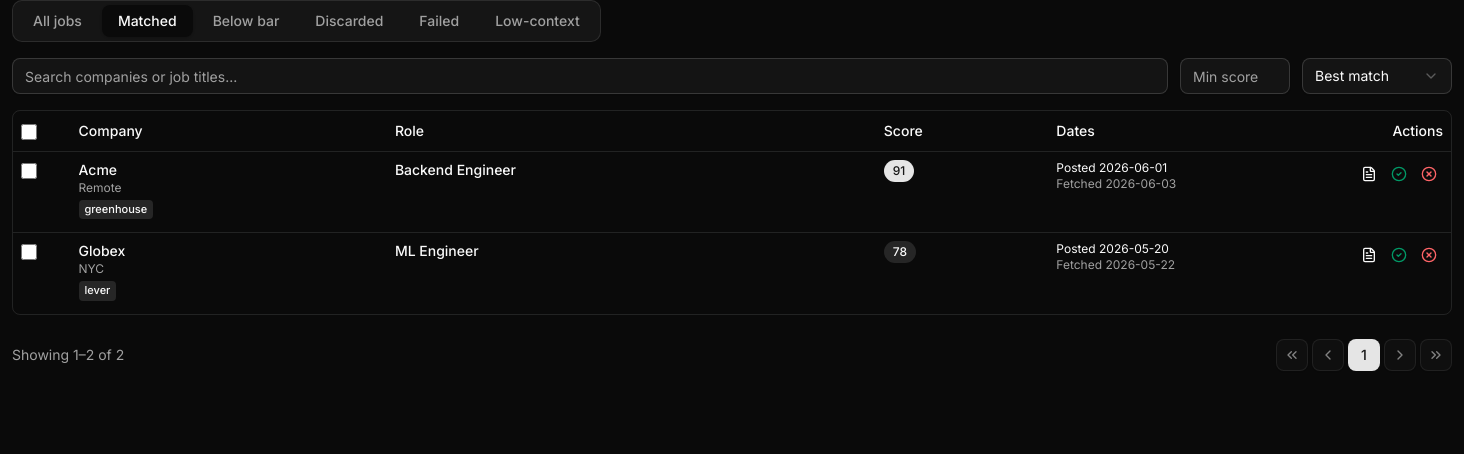
DiscoveredJobsTable › clears selection when the data set changes
The width and height of the screenshot is (1464, 454).
Step 1. Click the checkbox named "Select Backend Engineer" → (29, 171), box [21,163,37,179]
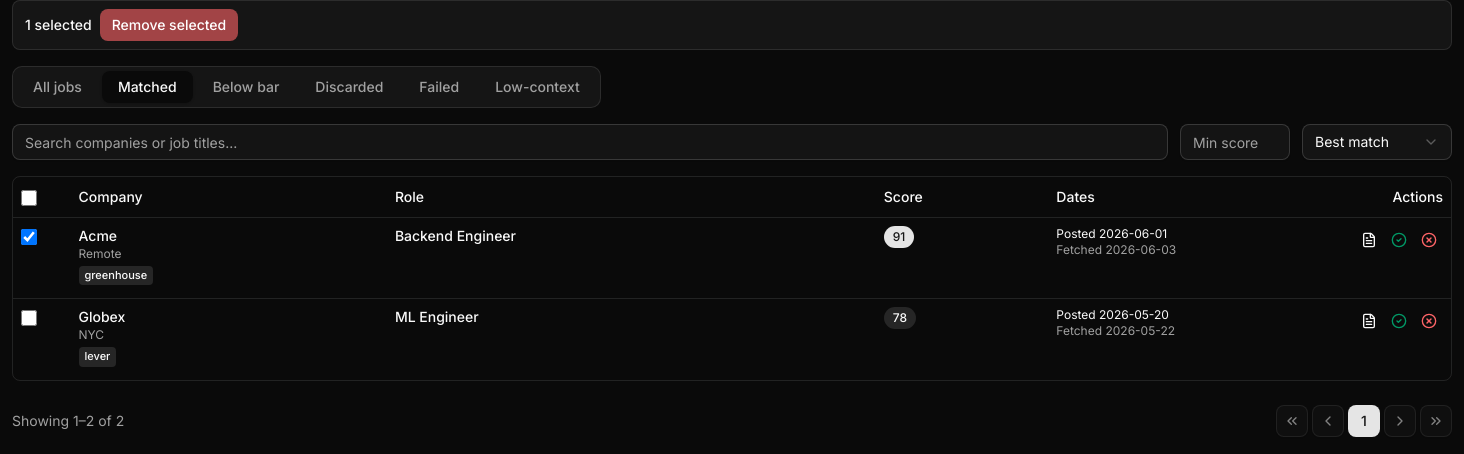
expect the text "1 selected" is shown: met, box [25,15,92,35]
